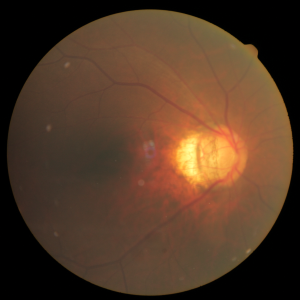glaucoma: (66, 93, 261, 221)
